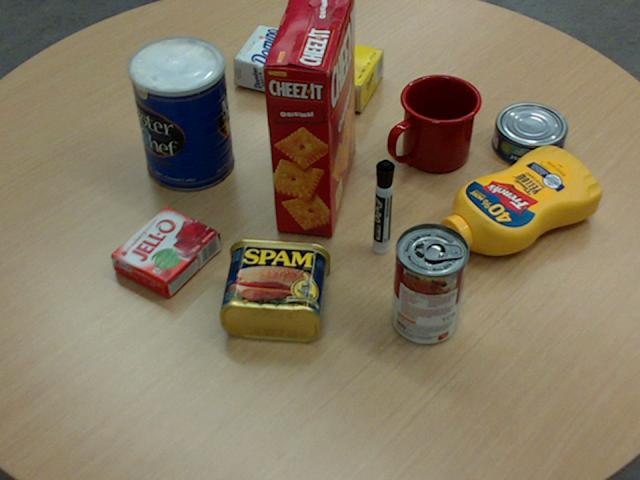cracker_box: (262, 0, 357, 236)
gelatin_box: (110, 204, 219, 297)
large_marker: (373, 160, 394, 254)
master_chef_can: (128, 36, 233, 191)
mug: (388, 73, 481, 172)
mustard_bottle: (430, 145, 599, 255)
potted_meat_can: (218, 238, 329, 340)
sugar_box: (232, 24, 383, 111)
tomato_soup_can: (391, 222, 468, 344)
tuna_fish_can: (491, 102, 566, 167)
